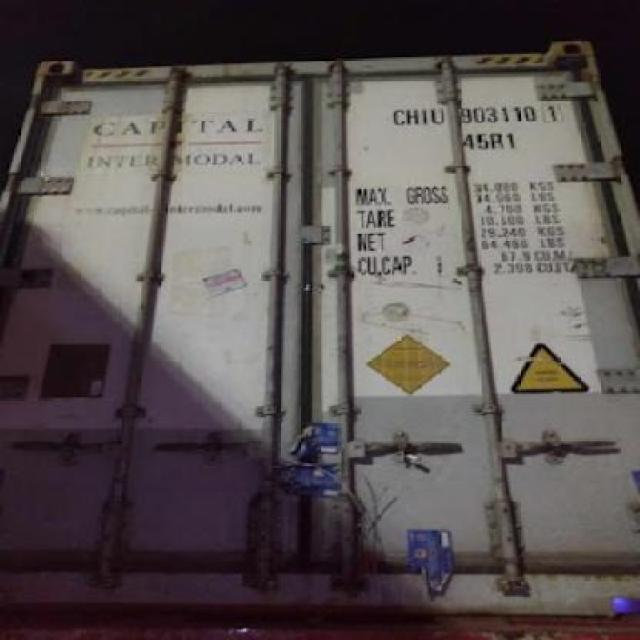ISO: (467, 130, 519, 150)
container_number: (397, 101, 568, 126)
